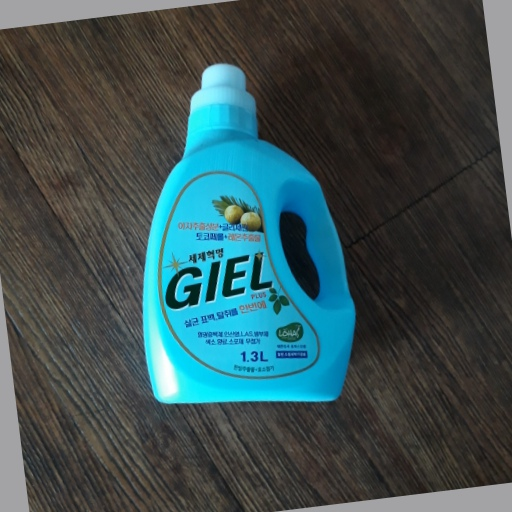Plastic_1: (143, 60, 354, 411)
